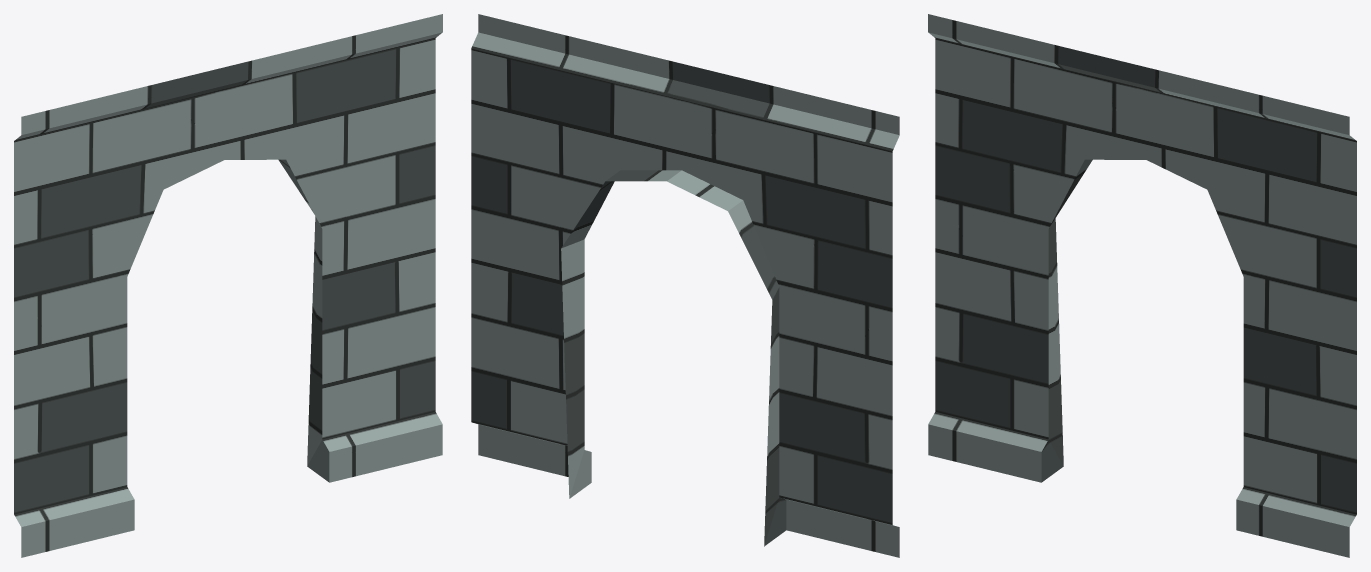
Rendered from Archefront.fbx.
The picture shows the model from 3 angles, left to right: view 1: azimuth 30°, elevation 25°; view 2: azimuth 150°, elevation 25°; view 3: azimuth 330°, elevation 25°; orthographic projection.
Visible parts, largest first — view 1: Cube.013, Cube.050, Cube.005; view 2: Cube.050, Cube.013, Cube.005; view 3: Cube.050, Cube.013, Cube.005.
Boxes of the visible parts, x1,y1,x2,y2 form: Cube.013: (307, 14, 442, 482); Cube.050: (14, 89, 134, 557); Cube.005: (127, 41, 329, 276); Cube.050: (764, 89, 899, 557); Cube.013: (471, 14, 591, 498); Cube.005: (561, 42, 786, 299); Cube.050: (928, 14, 1063, 482); Cube.013: (1236, 89, 1356, 557); Cube.005: (1041, 41, 1243, 276).
Bounding box in the file's own units: 400 × 400 × 36.74.
